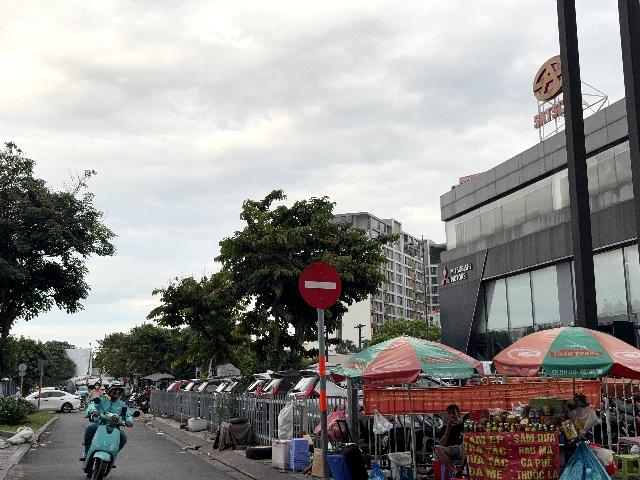cam-di-nguoc-chieu: (299, 262, 342, 310)
